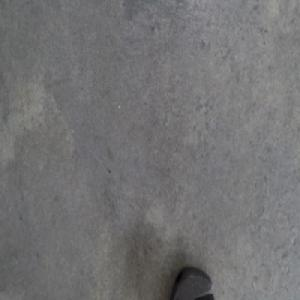AdjustableWrench: (169, 266, 213, 299)
